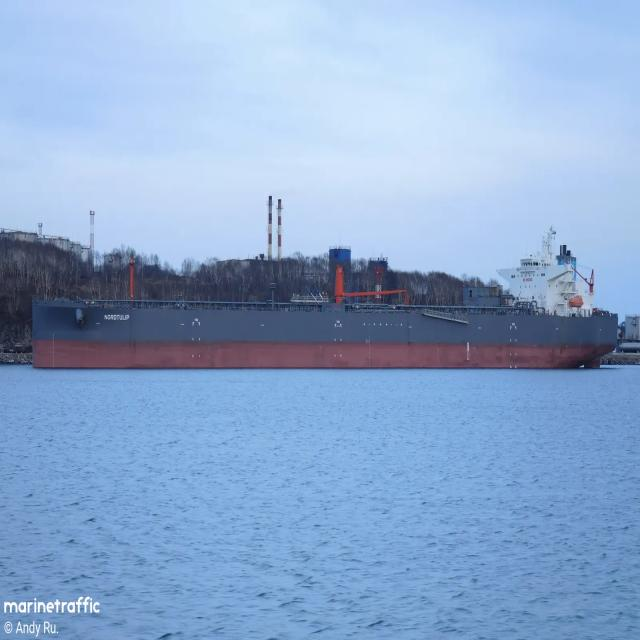Tanker: (33, 228, 617, 368)
